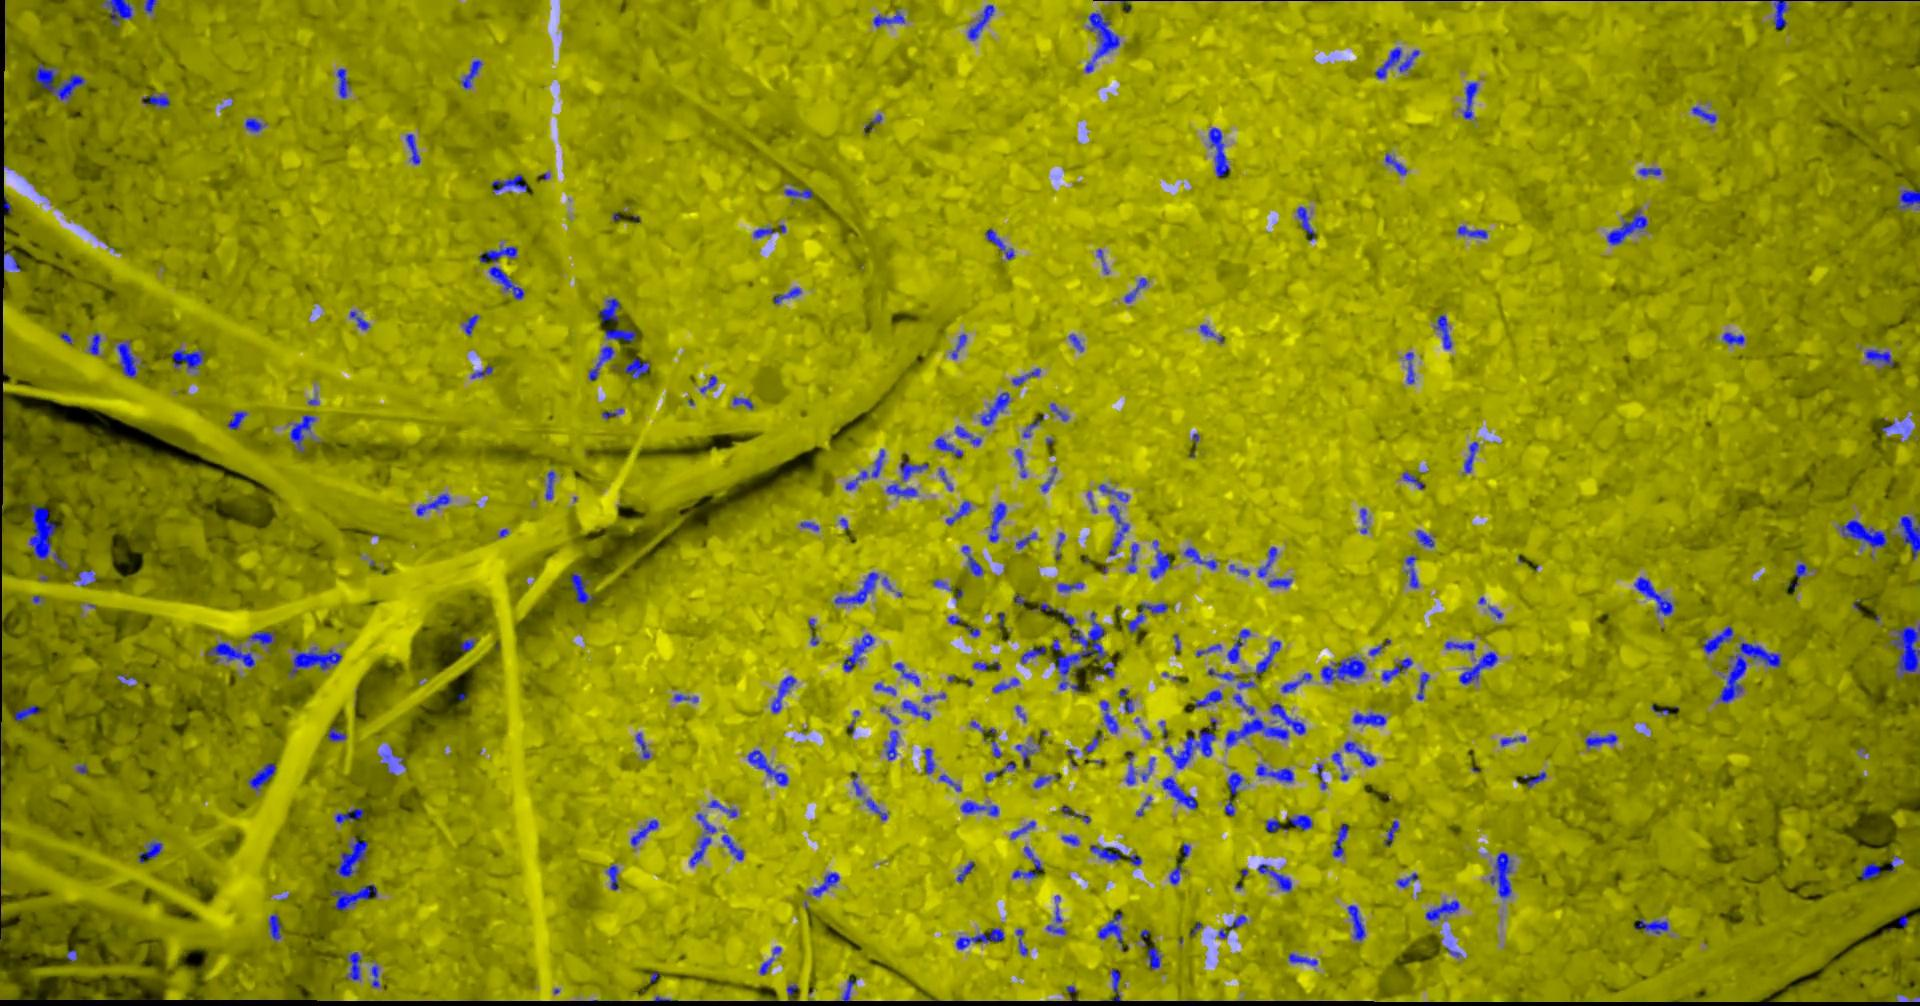ant: (1227, 702, 1307, 746), (1164, 716, 1218, 768), (1086, 11, 1121, 72), (36, 62, 86, 99), (847, 448, 886, 489), (290, 647, 343, 676), (1636, 575, 1674, 615), (30, 503, 57, 558), (1608, 210, 1650, 244), (335, 835, 370, 876), (691, 813, 717, 866), (749, 749, 789, 785), (836, 572, 879, 603), (1895, 625, 1920, 677), (1377, 47, 1420, 77), (1843, 520, 1890, 547), (1322, 655, 1368, 683), (208, 641, 257, 667), (1460, 652, 1498, 683), (331, 884, 378, 909), (1129, 603, 1170, 633), (844, 634, 876, 671), (490, 265, 524, 298), (1163, 776, 1197, 809), (1491, 852, 1514, 898), (1110, 504, 1130, 555), (291, 414, 317, 452), (1210, 127, 1230, 177), (982, 391, 1011, 426), (957, 929, 1006, 949), (772, 674, 797, 713), (1258, 862, 1293, 890), (1209, 668, 1256, 688), (969, 4, 996, 39), (1256, 640, 1283, 674), (1015, 846, 1044, 876), (987, 227, 1015, 259), (1900, 514, 1920, 558), (590, 345, 616, 380), (1228, 627, 1252, 663), (1703, 626, 1735, 653), (1150, 540, 1172, 578), (1098, 912, 1125, 942), (1345, 741, 1377, 766), (571, 572, 596, 605), (417, 493, 452, 514), (1383, 657, 1415, 681), (1185, 546, 1218, 569), (632, 819, 660, 846), (105, 0, 135, 25), (173, 348, 207, 370), (250, 763, 277, 790), (118, 340, 137, 377), (1258, 763, 1295, 782), (480, 244, 519, 262), (990, 502, 1008, 541), (1349, 904, 1368, 940), (963, 545, 984, 575), (493, 173, 530, 191), (1298, 206, 1317, 240), (1427, 901, 1462, 920), (813, 873, 841, 895), (462, 58, 484, 88), (1283, 672, 1313, 692), (985, 762, 1017, 781), (902, 459, 930, 480), (761, 946, 782, 974), (903, 700, 932, 720), (1091, 843, 1124, 861), (947, 500, 971, 525), (1258, 546, 1277, 577), (963, 800, 1001, 815), (723, 835, 745, 860), (936, 436, 964, 456), (1636, 917, 1670, 934), (1101, 700, 1119, 732), (897, 662, 921, 685), (1126, 277, 1148, 302), (626, 357, 651, 379), (1464, 83, 1479, 118), (1437, 314, 1453, 349), (1100, 483, 1130, 500), (1771, 0, 1790, 28), (1196, 688, 1224, 708), (599, 298, 622, 321), (140, 840, 163, 862), (1063, 805, 1092, 823), (956, 426, 983, 445), (1790, 563, 1810, 589), (710, 799, 738, 817), (1144, 941, 1162, 969), (1385, 152, 1408, 174), (867, 798, 889, 821), (874, 10, 905, 25), (1865, 349, 1895, 366), (1013, 368, 1043, 385), (1335, 823, 1349, 857), (1897, 189, 1920, 210), (775, 287, 803, 304), (1333, 752, 1350, 780), (337, 807, 364, 823), (1022, 645, 1048, 663), (1012, 821, 1037, 838), (756, 224, 787, 238), (1465, 441, 1479, 473), (888, 483, 919, 497), (1586, 733, 1618, 747), (1234, 694, 1256, 714), (17, 704, 41, 721), (408, 133, 422, 164), (1693, 105, 1718, 122), (1407, 555, 1420, 588), (1354, 713, 1387, 725), (1290, 951, 1319, 965), (940, 774, 963, 791), (606, 328, 637, 340), (1126, 749, 1138, 784), (348, 951, 362, 979), (1459, 225, 1490, 238), (350, 310, 371, 329), (952, 333, 968, 358), (1023, 417, 1043, 437), (1017, 744, 1037, 763), (1524, 771, 1547, 788), (637, 732, 651, 758), (338, 69, 350, 98), (1016, 448, 1029, 478), (888, 730, 900, 760), (1043, 467, 1058, 492), (1290, 814, 1314, 829), (1404, 471, 1425, 489), (1862, 861, 1882, 879), (957, 861, 975, 882), (463, 314, 480, 335), (1228, 772, 1244, 794), (143, 94, 171, 107), (994, 678, 1020, 692), (1034, 775, 1062, 788), (843, 978, 858, 1001), (1051, 403, 1070, 420), (229, 412, 248, 429), (1417, 528, 1435, 547), (1418, 672, 1431, 699), (1086, 733, 1103, 752), (1385, 821, 1399, 845), (1112, 968, 1123, 1001), (1129, 542, 1140, 572), (251, 631, 277, 644), (1197, 643, 1223, 655), (270, 913, 283, 939), (866, 114, 883, 133), (1017, 532, 1037, 547), (924, 747, 936, 774), (1017, 929, 1029, 955), (472, 365, 494, 379), (785, 188, 814, 198), (1446, 641, 1476, 652), (701, 375, 717, 392), (1143, 757, 1156, 780), (1398, 873, 1418, 887), (1724, 332, 1746, 344), (734, 396, 756, 409), (1171, 862, 1183, 884), (1058, 580, 1084, 591), (1230, 915, 1248, 930), (90, 332, 102, 354), (547, 470, 556, 499), (1502, 735, 1528, 746), (1318, 763, 1328, 789), (608, 864, 618, 889), (1407, 351, 1415, 384), (55, 553, 70, 569), (329, 727, 347, 741), (876, 682, 897, 694), (1070, 334, 1084, 351), (975, 661, 1001, 669), (603, 408, 625, 418), (246, 118, 263, 131), (461, 639, 477, 652), (1103, 661, 1116, 677), (1060, 681, 1081, 691), (1270, 578, 1293, 587), (1641, 166, 1662, 175), (1267, 819, 1281, 832), (676, 694, 698, 701), (789, 984, 800, 1000), (1048, 925, 1067, 934), (1225, 799, 1236, 815), (1063, 835, 1079, 845), (373, 965, 381, 987), (1361, 508, 1368, 533), (67, 948, 79, 962), (803, 521, 820, 530), (146, 0, 157, 13)
